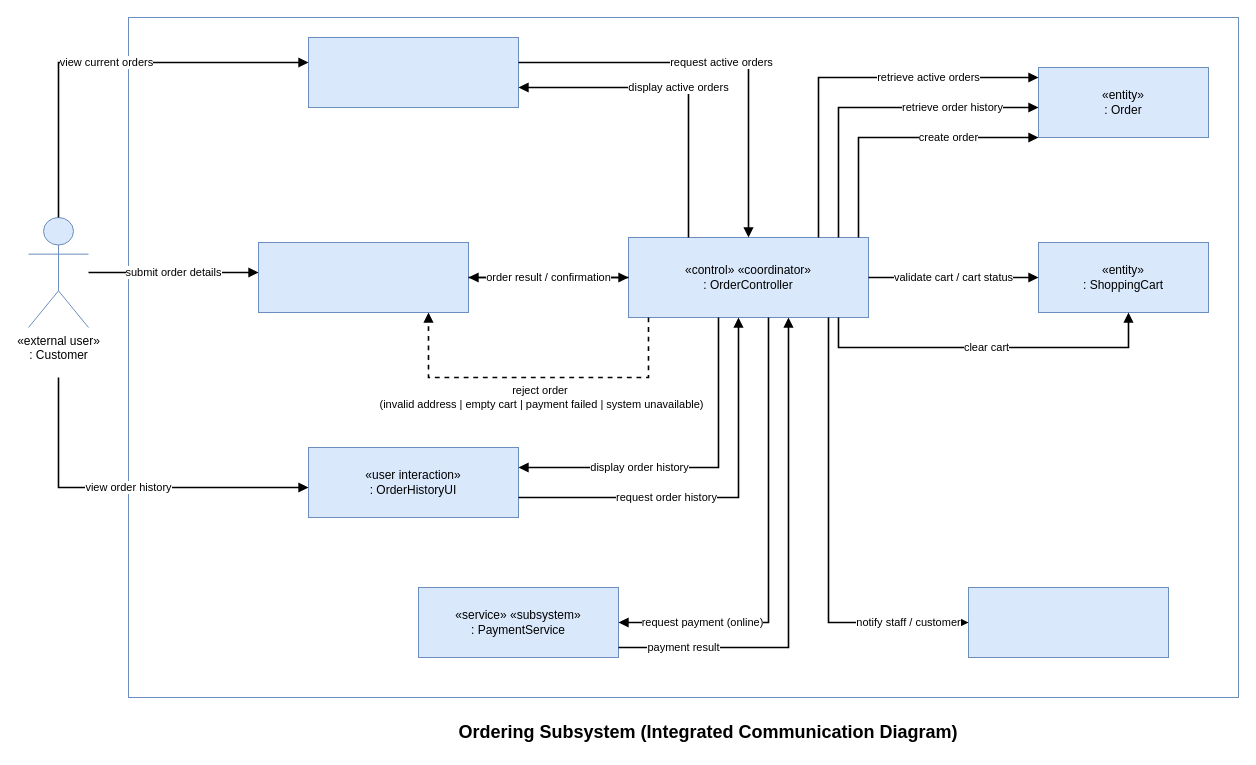
Some shapes in this 1256 by 765 pixel diagram are drawn without their labels. The shapes that lost their labels are listed below. From the top down, each one's centre as x and y in pixels, then its label:
At pixel 413 72: "«user interaction» : OrderViewUI".
At pixel 363 277: "«user interaction» : CheckoutUI".
At pixel 1068 622: "«service» : NotificationService".
